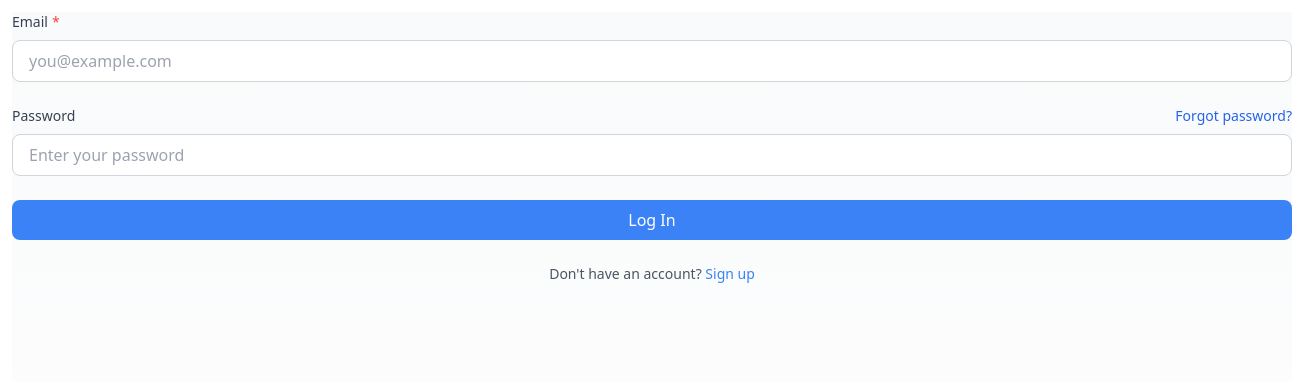
Test case: LoginForm › displays error message for invalid credentials
This screenshot has width=1304, height=382.
In the field labelled "Email*": (652, 61) [12,40,1292,82], type "test@example.com"
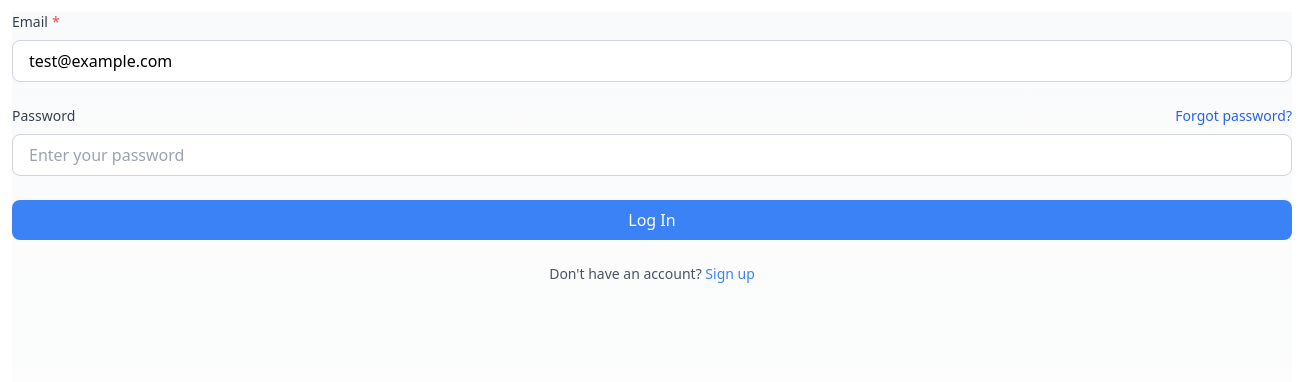
In the password field labelled "Password": (652, 155) [12,134,1292,176], type "wrongPassword"
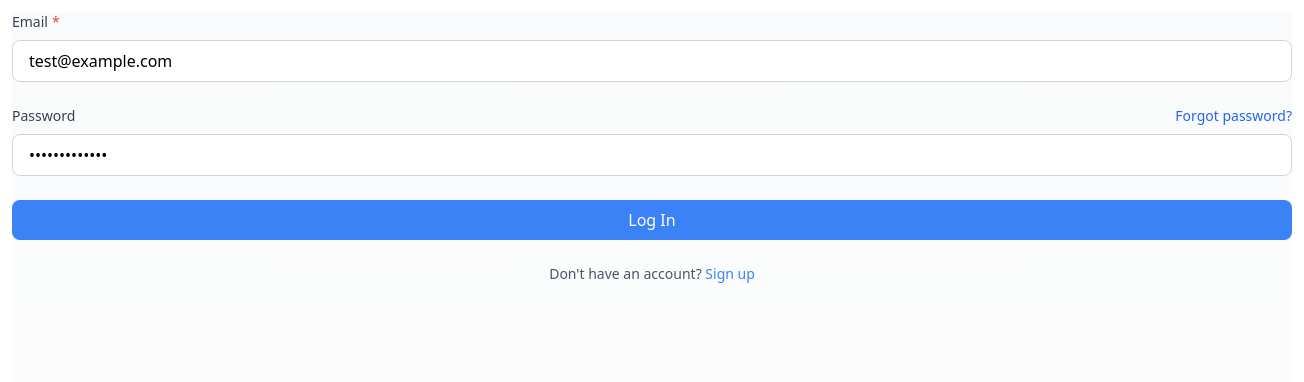
Click the button "Log In": (652, 220) [12,200,1292,240]
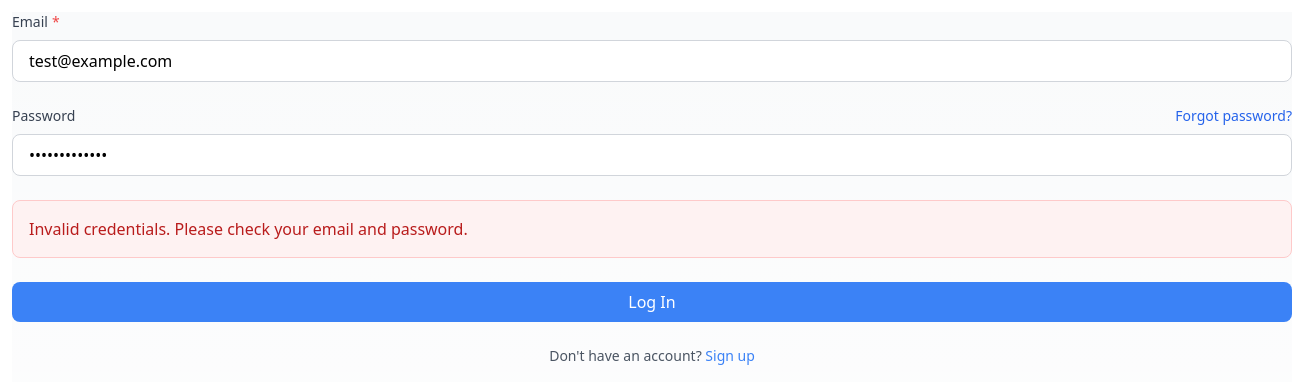
expect the text "Invalid credentials. Please check your email and password." is shown: met, box [12,200,1292,258]
